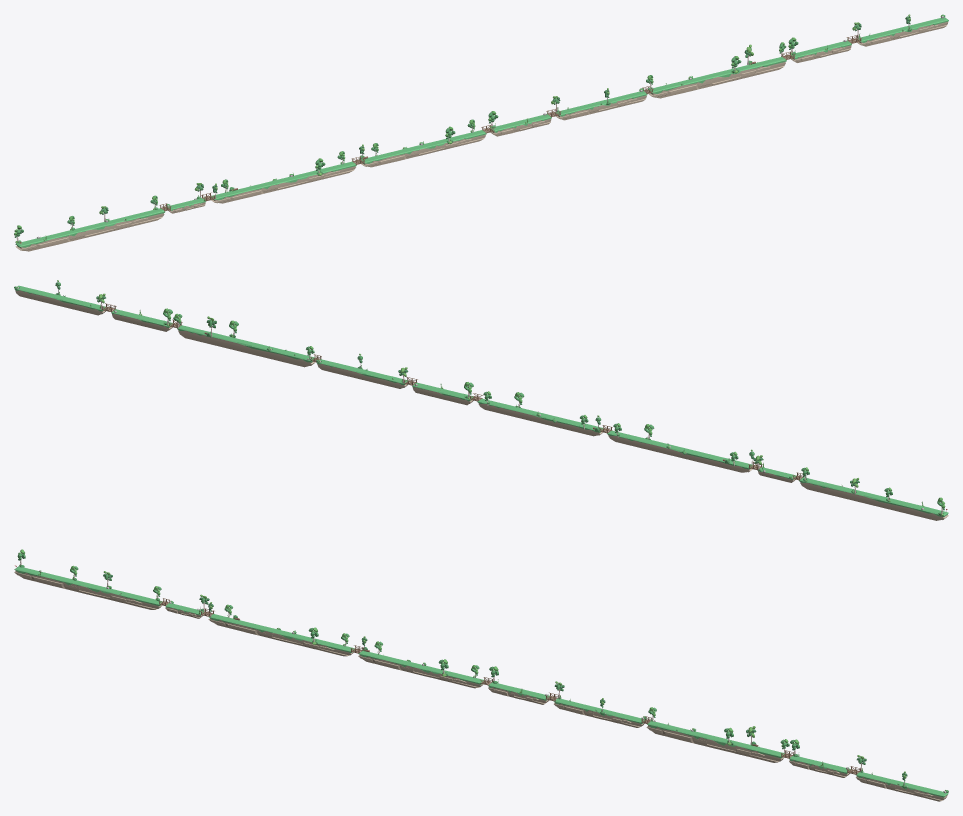
File: Park_Map_lvl_7_LANG.fbx
3 renders of one model, top to bottom at view 1: azimuth 30°, elevation 25°; view 2: azimuth 150°, elevation 25°; view 3: azimuth 330°, elevation 25°, orthographic.
Parts seen in each view (by area): view 1: polySurface7225; view 2: polySurface7225; view 3: polySurface7225.
Boxes of the visible parts, x1=… form: polySurface7225: x1=14, y1=14, x2=948, y2=251; polySurface7225: x1=14, y1=280, x2=948, y2=520; polySurface7225: x1=14, y1=549, x2=948, y2=801.
Size of the model in its own units: 899 by 25.76 by 15.31.
